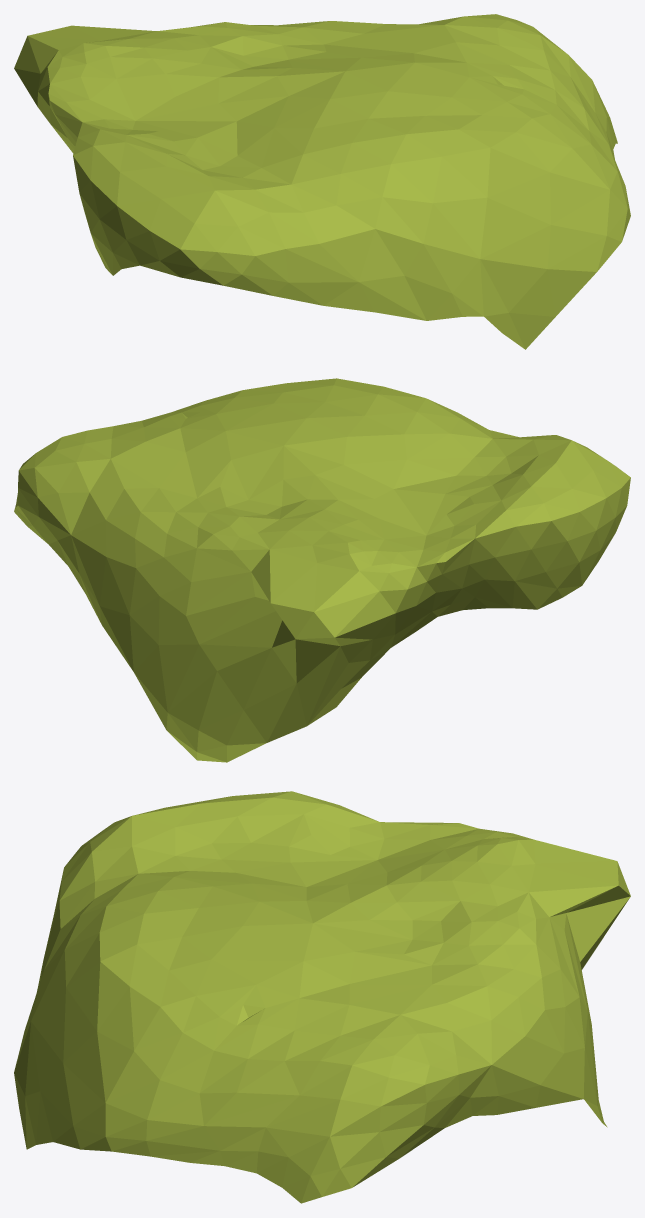
Rendered from hill_004.glb.
3 views of the same model, one above another, from view 1: azimuth 30°, elevation 25°; view 2: azimuth 150°, elevation 25°; view 3: azimuth 270°, elevation 25° (orthographic). The views are drawn at different scales.
Parts seen in each view (by area): view 1: hill_004; view 2: hill_004; view 3: hill_004.
Part boxes in pixels (x1,y1,x2,y2): hill_004: (14,14,630,349); hill_004: (14,378,630,762); hill_004: (14,791,630,1203).
Bounding box in the file's own units: 72.37 × 27.08 × 65.39.
Materials: 1 (1 with a texture image).
